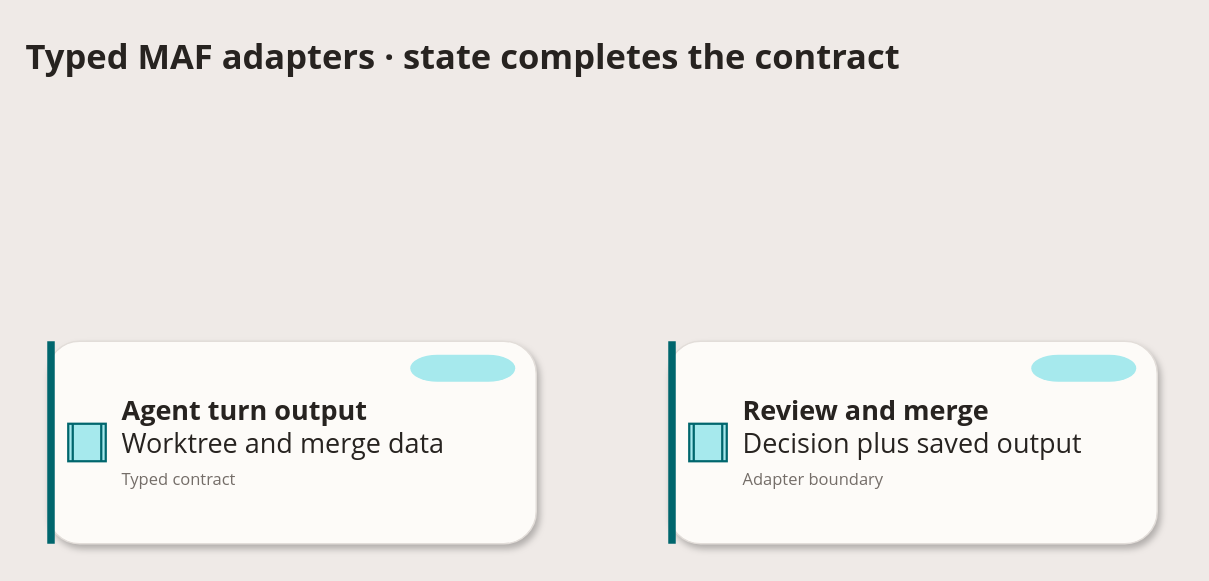
Some shapes in this 1209 by 581 pixel diagram are drawn without their labels. Here are the shapes that lost their labels. From the top down, the centre of each, then its label:
point 462,367: SCOPE
point 1083,367: RESULT
